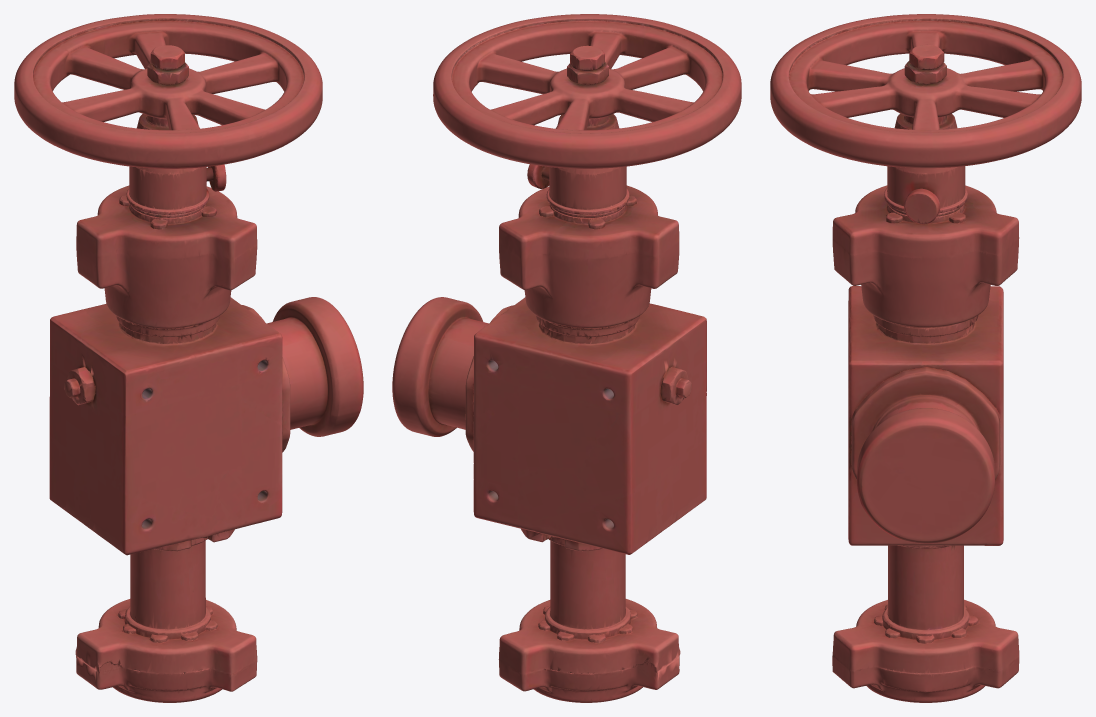
The model's file is valvulaEstranguladorAjustable.glb.
3 views of the same model, side by side, from view 1: azimuth 30°, elevation 25°; view 2: azimuth 150°, elevation 25°; view 3: azimuth 270°, elevation 25° (orthographic).
Visible parts, largest first — view 1: tripo_node_b63ab1bf-440e-441b-80cf-edbe6fe62f06; view 2: tripo_node_b63ab1bf-440e-441b-80cf-edbe6fe62f06; view 3: tripo_node_b63ab1bf-440e-441b-80cf-edbe6fe62f06.
Boxes of the visible parts, left/top/right/bottom form: tripo_node_b63ab1bf-440e-441b-80cf-edbe6fe62f06: left=14, top=14, right=363, bottom=702; tripo_node_b63ab1bf-440e-441b-80cf-edbe6fe62f06: left=392, top=14, right=741, bottom=702; tripo_node_b63ab1bf-440e-441b-80cf-edbe6fe62f06: left=770, top=14, right=1081, bottom=702.
Bounding box in the file's own units: 0.4861 × 0.9805 × 0.4412.
1 material, 1 textured.
